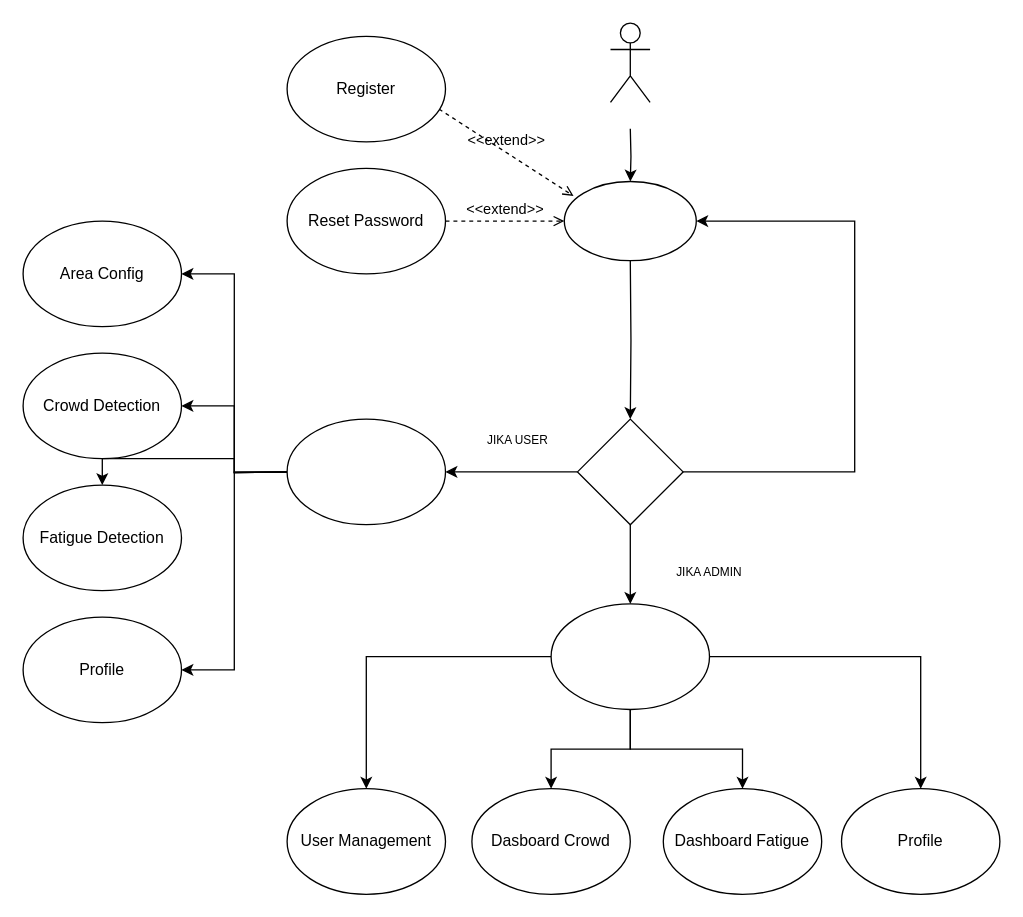
Some shapes in this 1023 by 917 pixel diagram are drawn without their labels. Each missing label, with the box of its shape:
Aktor: (609, 22, 650, 102)
Halaman Admin: (550, 603, 710, 710)
Halaman Users: (286, 418, 446, 525)
Login: (563, 180, 696, 261)
